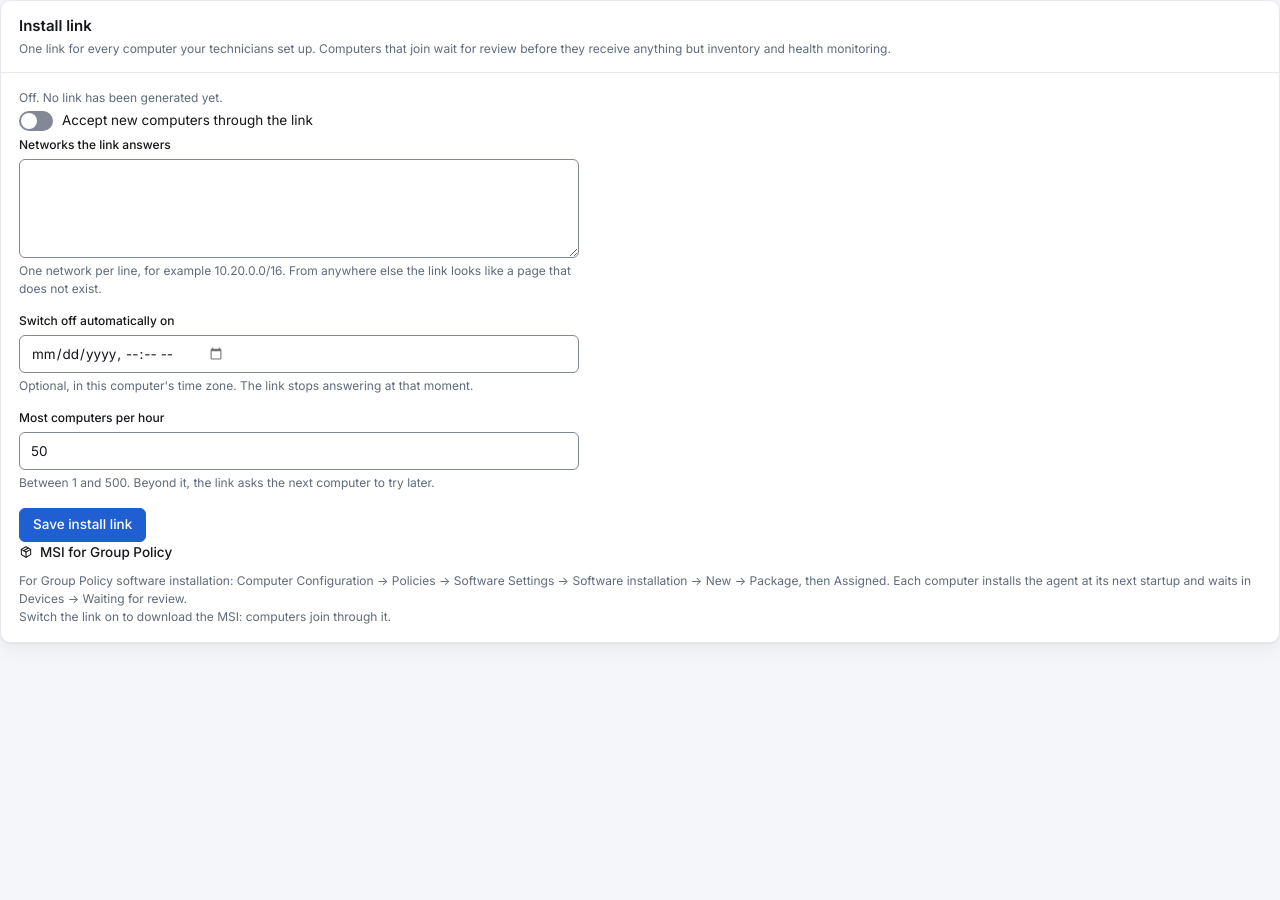
Test: InstallLinkPanel › will not switch the link on until a network is listed
Expected: the text "Off. No link has been generated yet." is shown, top-left (19, 90), bottom-right (223, 104)
What coordinates should you click on to do the following:
click the switch labelled "Accept new computers through the link"
I would click on:
 (166, 120)
Its box is top-left (19, 106), bottom-right (313, 134).
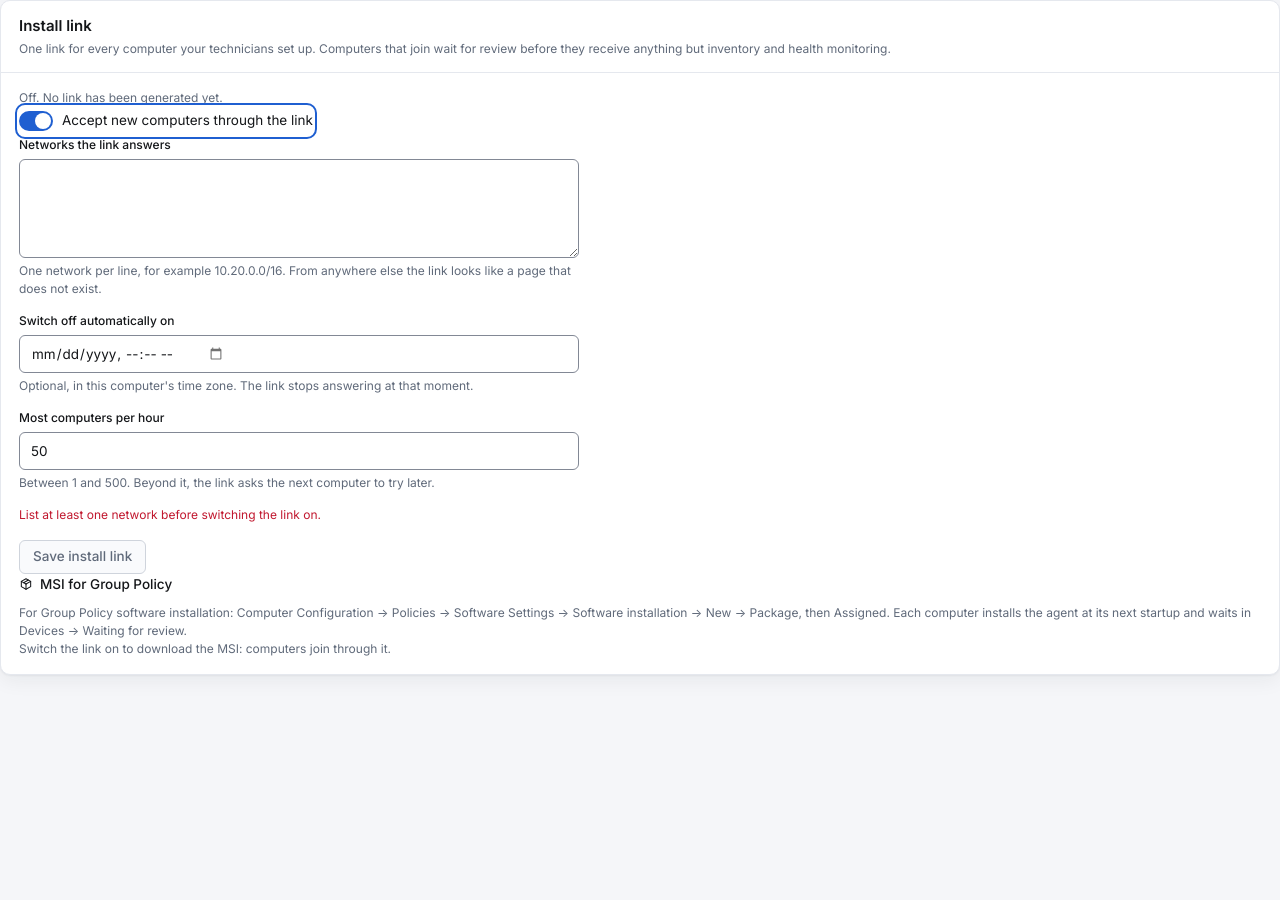
Expected: the message shows "List at least one network", top-left (19, 507), bottom-right (321, 522)
Expected: the button "Save install link" is disabled, top-left (19, 540), bottom-right (146, 574)
